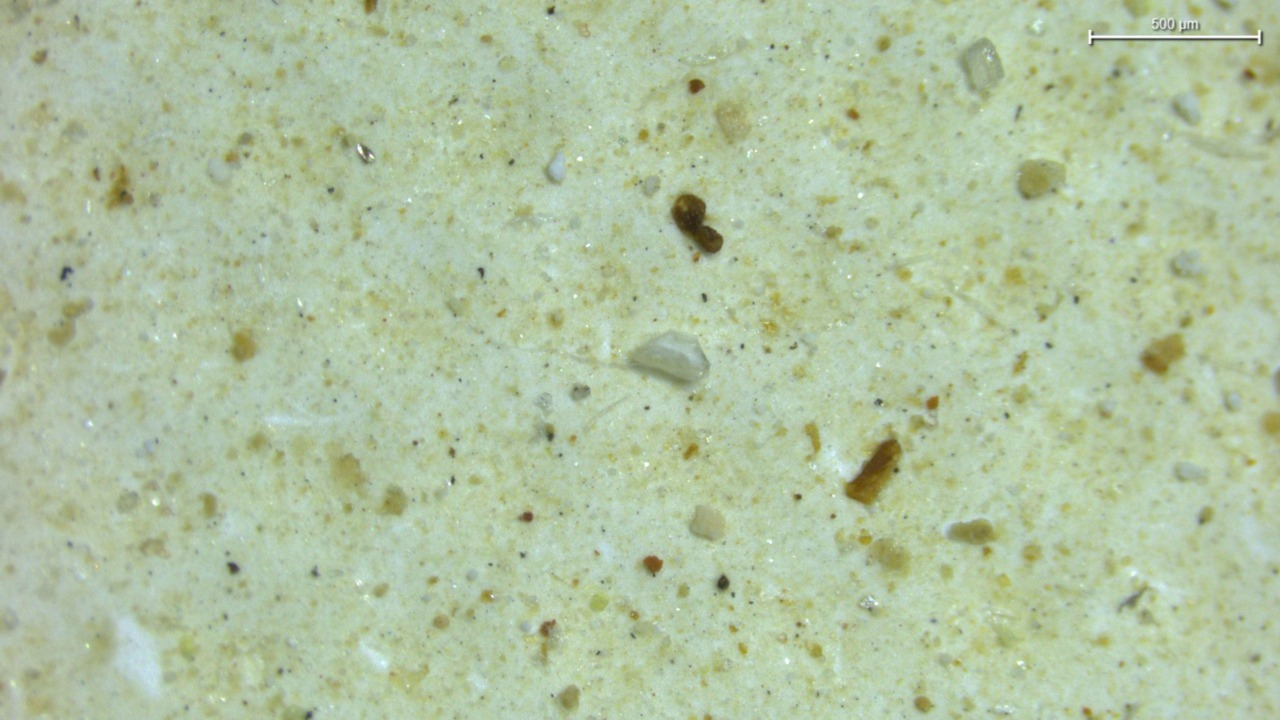microplastic_fragment: (629, 331, 709, 382), (959, 38, 1004, 96), (689, 505, 725, 541), (545, 151, 566, 183)
